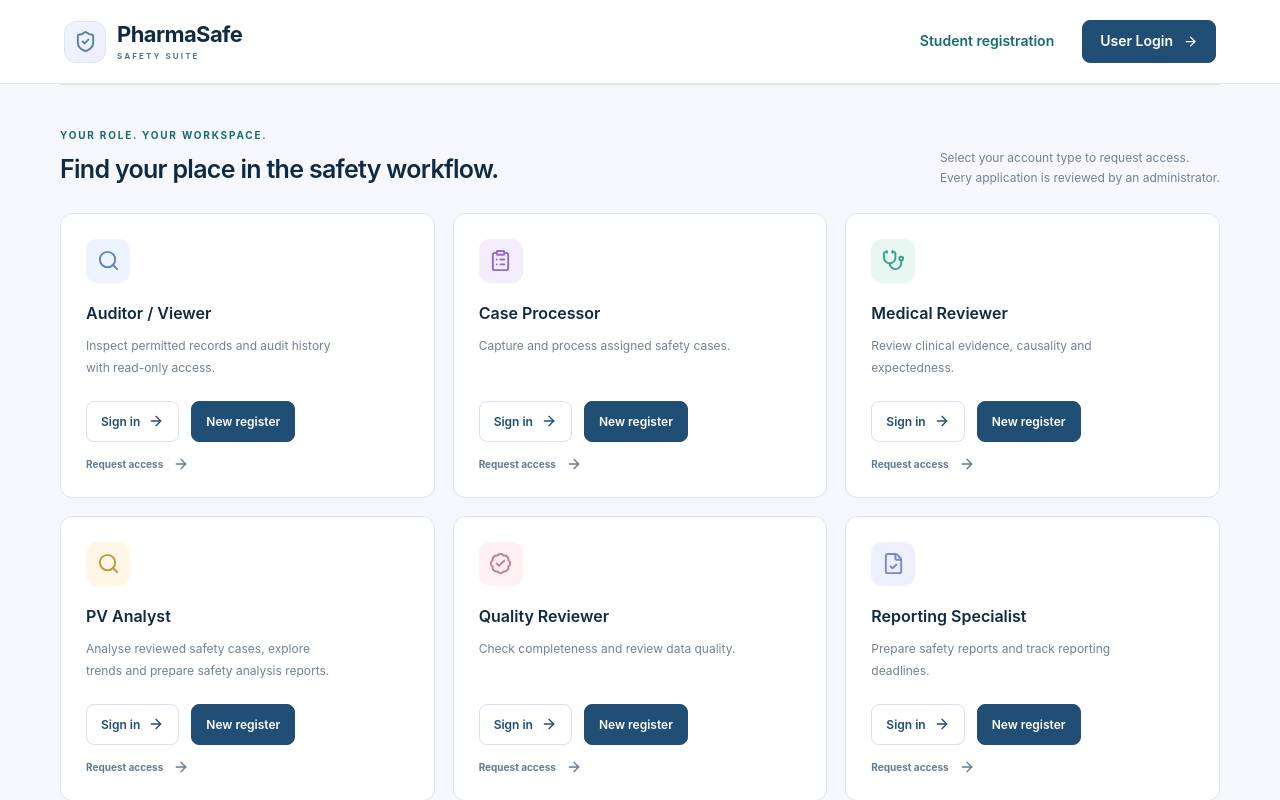
account catalogue availability › does not open registration or invent a selection token when the service is down
Click the button with aria-label "Request access as Medical Reviewer": (923, 464) top-left (871, 456), bottom-right (975, 472)
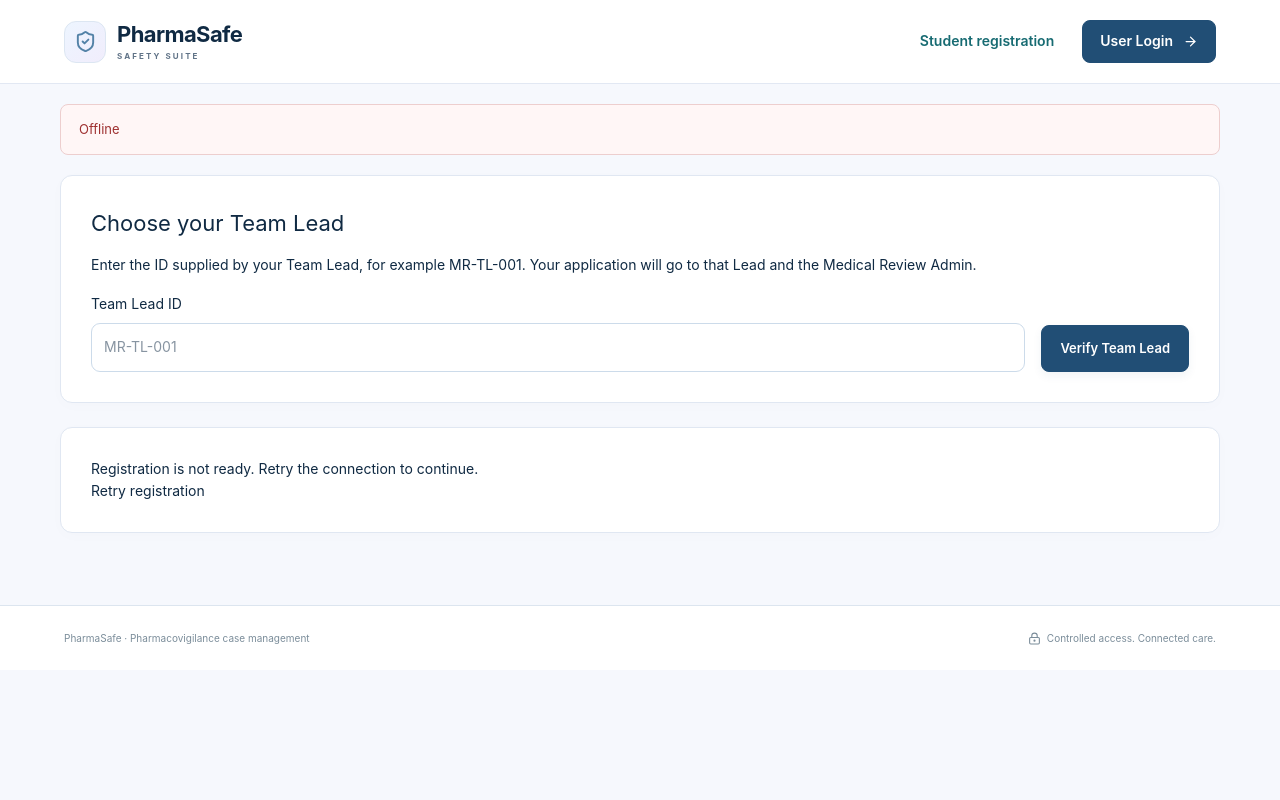
Expected: the message "Offline" is shown, top-left (60, 104), bottom-right (1220, 155)
